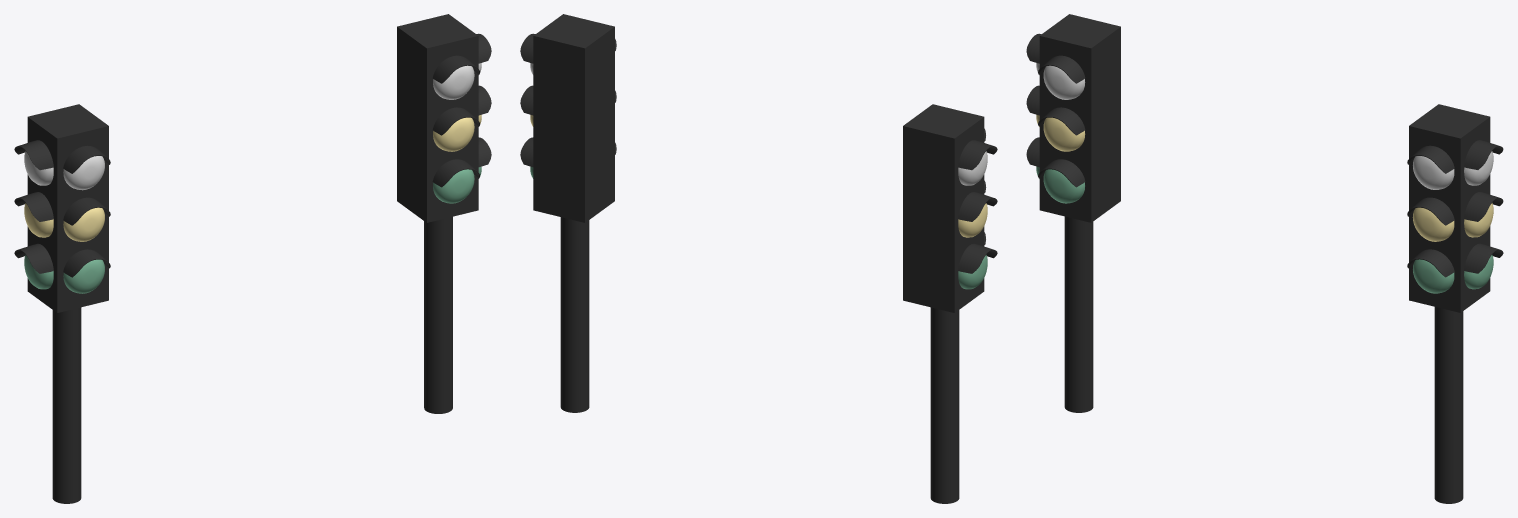
File: RedLight.fbx
3 renders of one model, left to right at view 1: azimuth 30°, elevation 25°; view 2: azimuth 150°, elevation 25°; view 3: azimuth 330°, elevation 25°, orthographic.
Parts seen in each view (by area): view 1: Traffic light.002; view 2: Traffic light.002; view 3: Traffic light.002.
Part boxes in pixels (x1,y1,x2,y2): Traffic light.002: (14,14,491,503); Traffic light.002: (520,14,997,503); Traffic light.002: (1026,14,1503,503).
Size of the model in its own units: 325 by 254 by 50.37.
